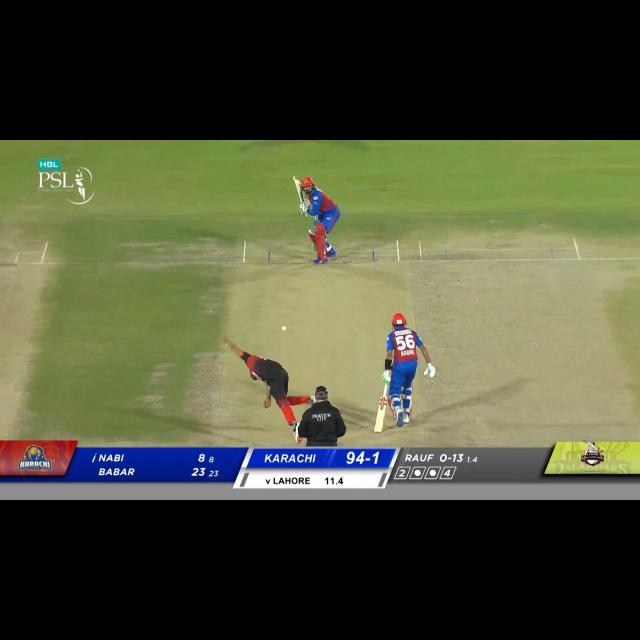bat: (374, 396, 386, 433), (292, 176, 306, 202)
toe: (373, 427, 385, 434), (291, 175, 302, 182)
